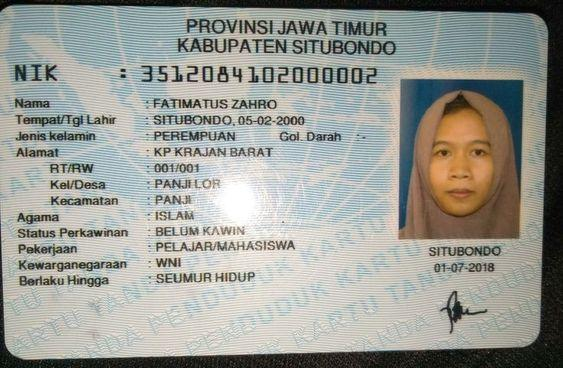ID-card: (3, 10, 546, 354)
